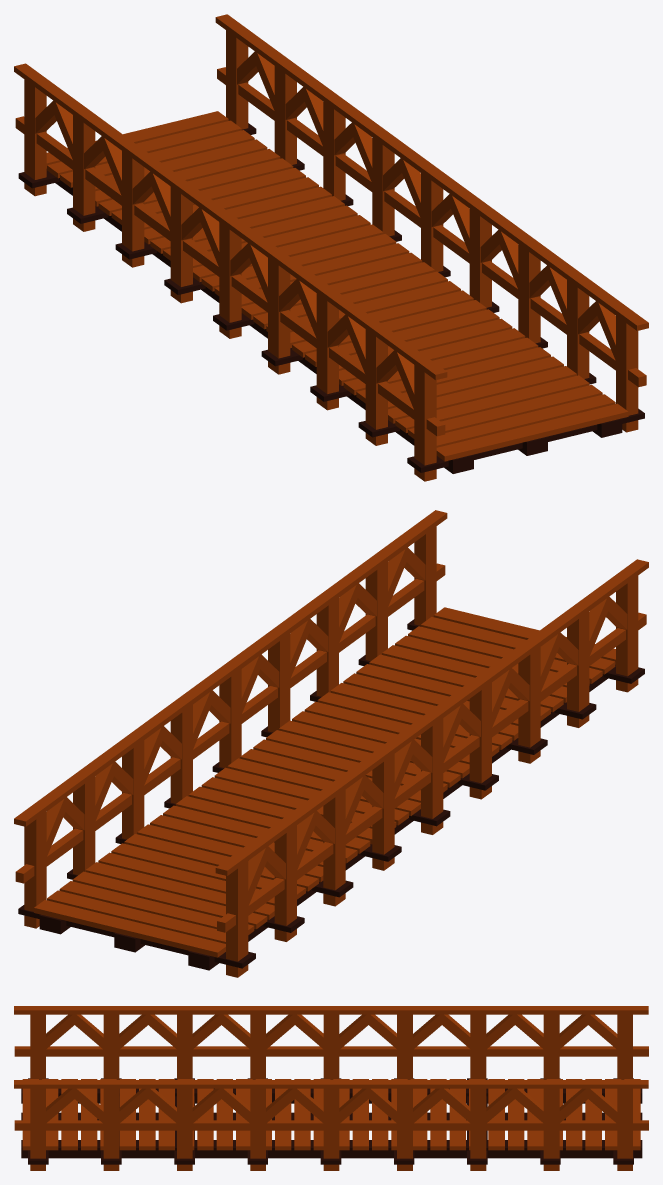
Rendered from PuenteRectoMSv2 1.fbx.
3 renders of one model, top to bottom at view 1: azimuth 30°, elevation 25°; view 2: azimuth 150°, elevation 25°; view 3: azimuth 270°, elevation 25°, orthographic. The views are drawn at different scales.
Parts seen in each view (by area): view 1: Box066; view 2: Box066; view 3: Box066.
Boxes of the visible parts, x1,y1,x2,y2 form: Box066: (14, 14, 648, 481); Box066: (14, 510, 648, 977); Box066: (14, 1006, 648, 1170).
Bounding box in the file's own units: 40.1 × 19.64 × 131.
